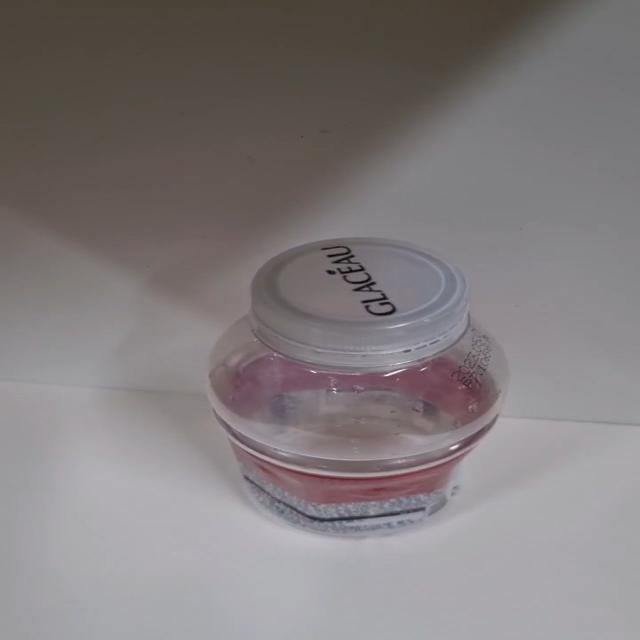Plastic: (204, 237, 513, 542)
